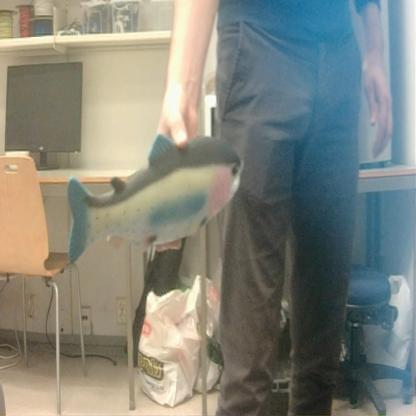rubberfish: (64, 127, 244, 272)
